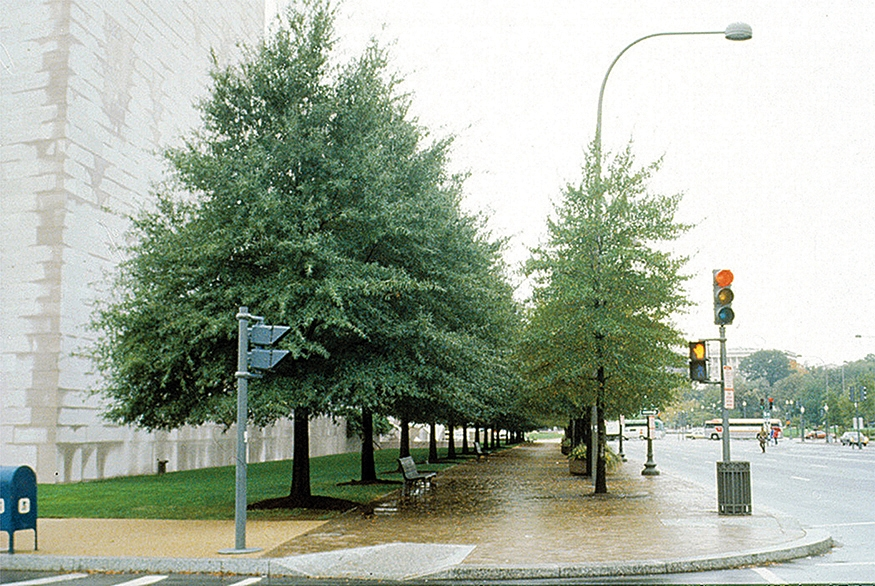TraficLight: (706, 267, 738, 328)
Tree: (75, 3, 525, 510), (513, 138, 688, 494)
